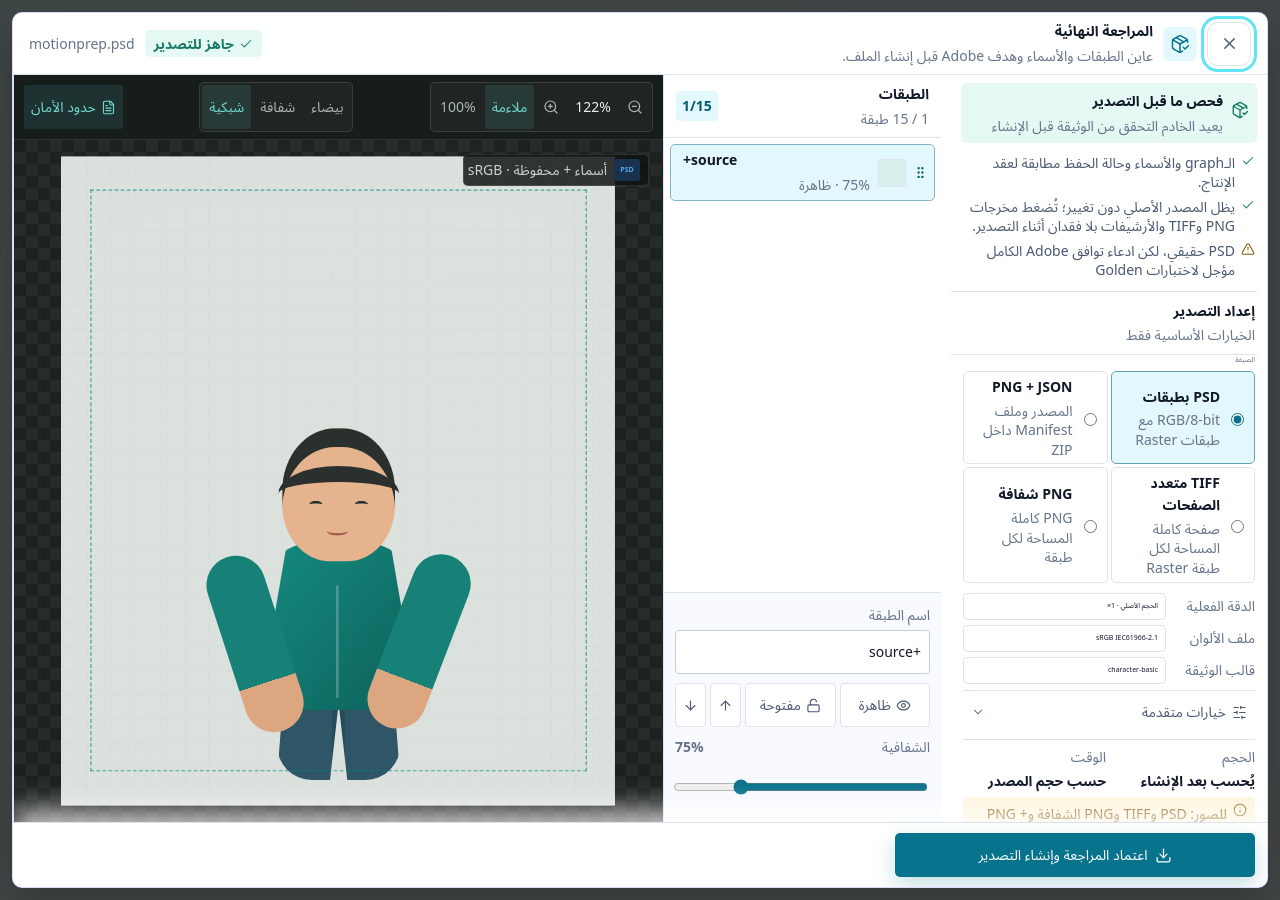
Scenario: ExportReview production editing policy › shows every server-side preflight blocker
Click the button with class "create-export-button". click: [1075, 855]
box: top-left (895, 833), bottom-right (1255, 877)
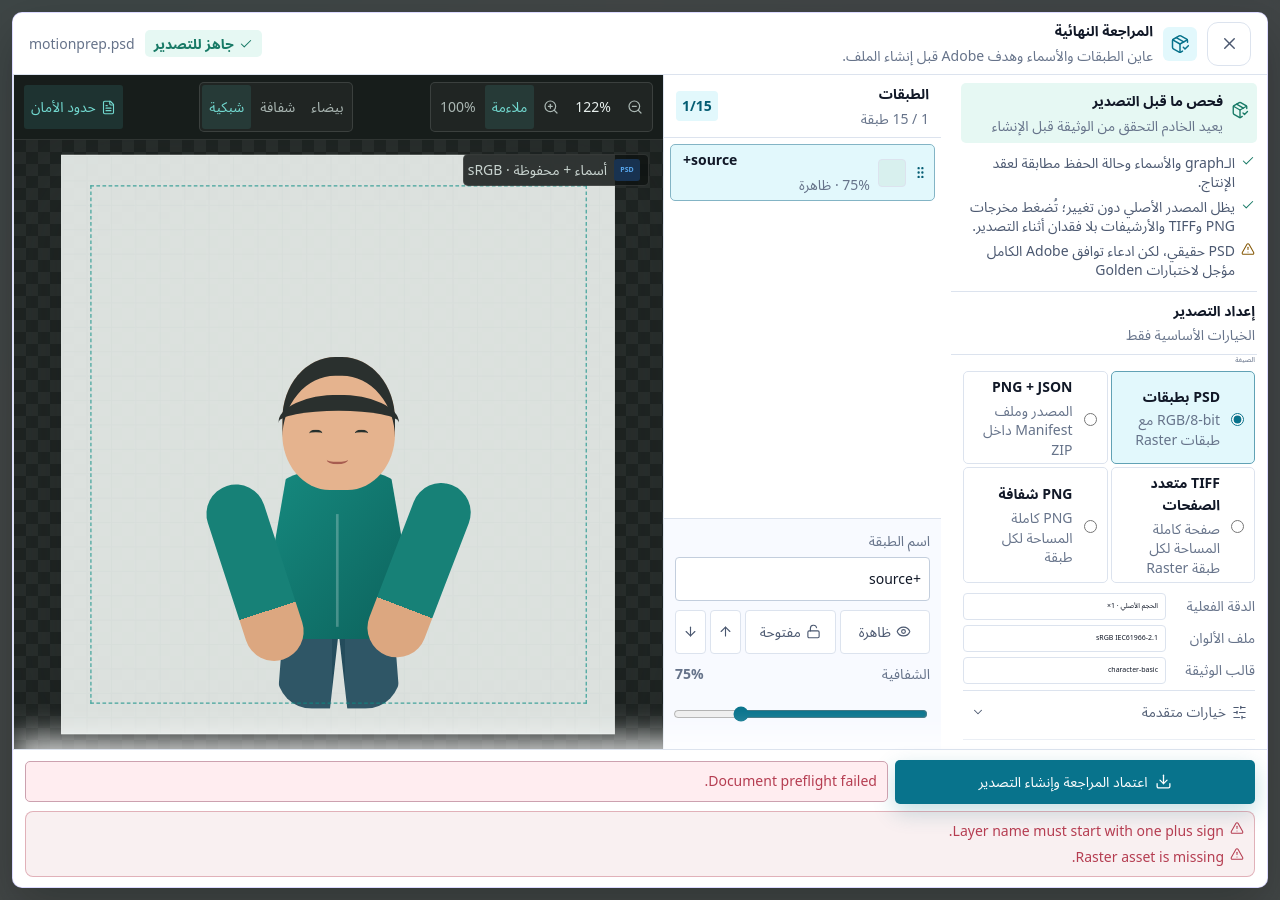
Expected: the text "Layer name must start with one plus sign." is shown, top-left (949, 820), bottom-right (1224, 841)
Expected: the text "Raster asset is missing." is shown, top-left (1072, 846), bottom-right (1224, 868)
